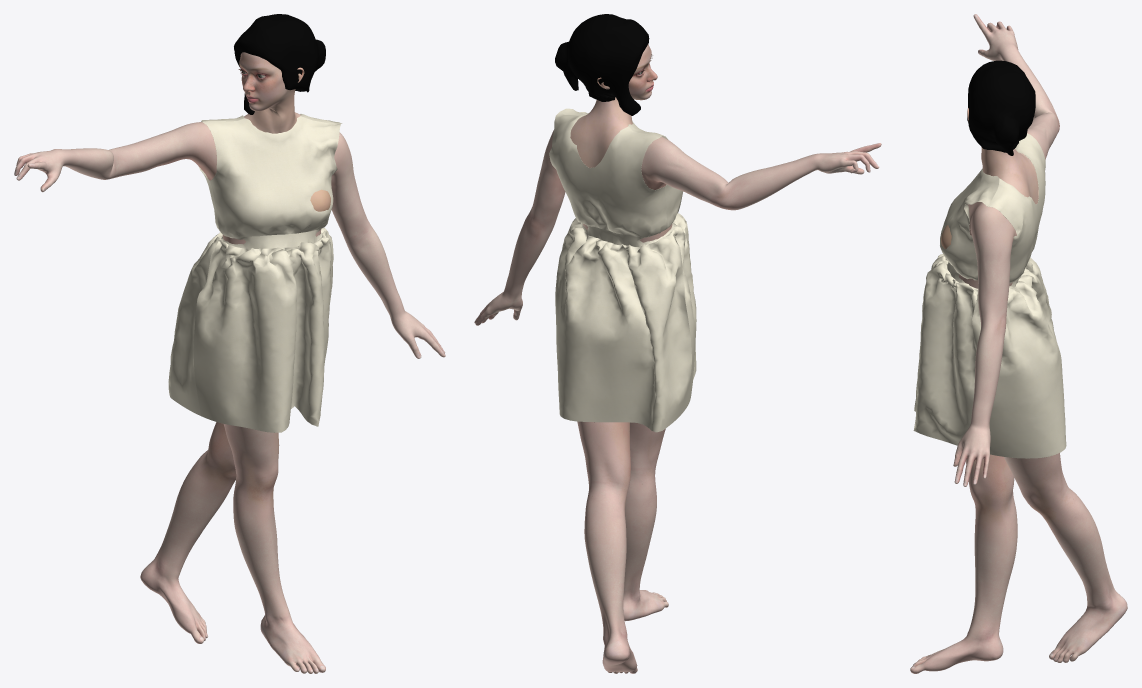
File: Dynamic.obj
The picture shows the model from 3 angles, left to right: view 1: azimuth 30°, elevation 25°; view 2: azimuth 150°, elevation 25°; view 3: azimuth 270°, elevation 25°; orthographic projection. The views are drawn at different scales.
Size of the model in its own units: 1226 by 1775 by 569.
